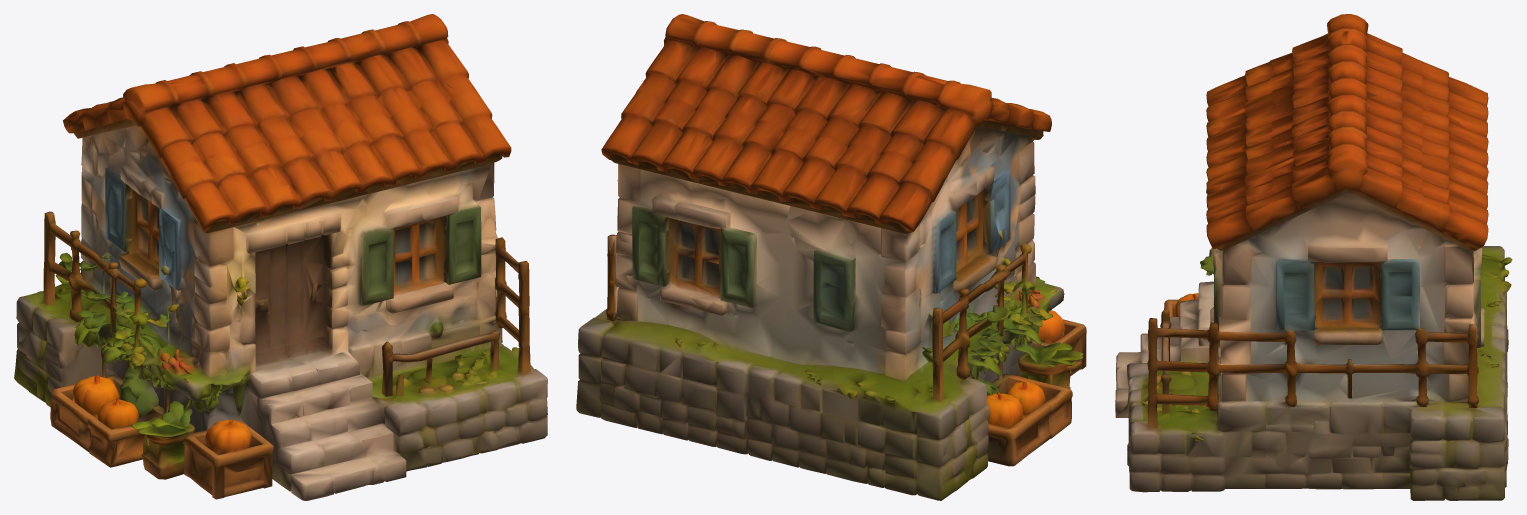
File: Piece07.fbx
The picture shows the model from 3 angles, left to right: view 1: azimuth 30°, elevation 25°; view 2: azimuth 150°, elevation 25°; view 3: azimuth 270°, elevation 25°; orthographic projection. The views are drawn at different scales.
Visible parts, largest first — view 1: Piece07; view 2: Piece07; view 3: Piece07.
Boxes of the visible parts, left/top/right/bottom form: Piece07: left=14, top=14, right=547, bottom=500; Piece07: left=576, top=14, right=1086, bottom=500; Piece07: left=1115, top=14, right=1512, bottom=500.
Bounding box in the file's own units: 99.97 × 85.17 × 91.34.
Materials: 1 (1 with a texture image).
